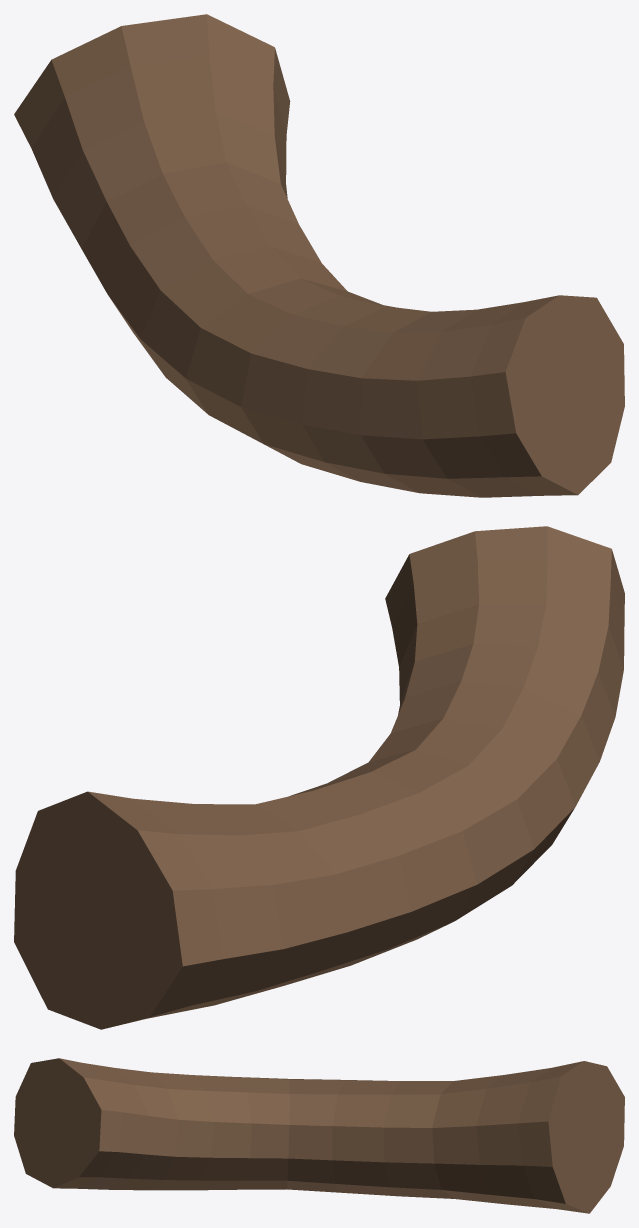
File: Root_Tree_Base_Blockout_Detail_v1.glb
The picture shows the model from 3 angles, top to bottom: view 1: azimuth 30°, elevation 25°; view 2: azimuth 150°, elevation 25°; view 3: azimuth 270°, elevation 25°; orthographic projection. The views are drawn at different scales.
Visible parts, largest first — view 1: Root_Tree_Base_Blockout_Detail_v1; view 2: Root_Tree_Base_Blockout_Detail_v1; view 3: Root_Tree_Base_Blockout_Detail_v1.
Boxes of the visible parts, left/top/right/bottom form: Root_Tree_Base_Blockout_Detail_v1: left=14, top=14, right=624, bottom=497; Root_Tree_Base_Blockout_Detail_v1: left=14, top=526, right=624, bottom=1029; Root_Tree_Base_Blockout_Detail_v1: left=14, top=1058, right=624, bottom=1213.
Bounding box in the file's own units: 3.48 × 2.49 × 9.21.
